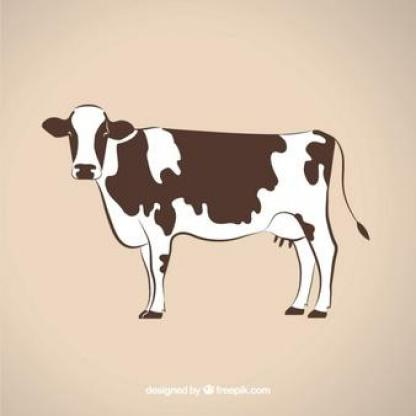cow: (41, 103, 338, 320)
